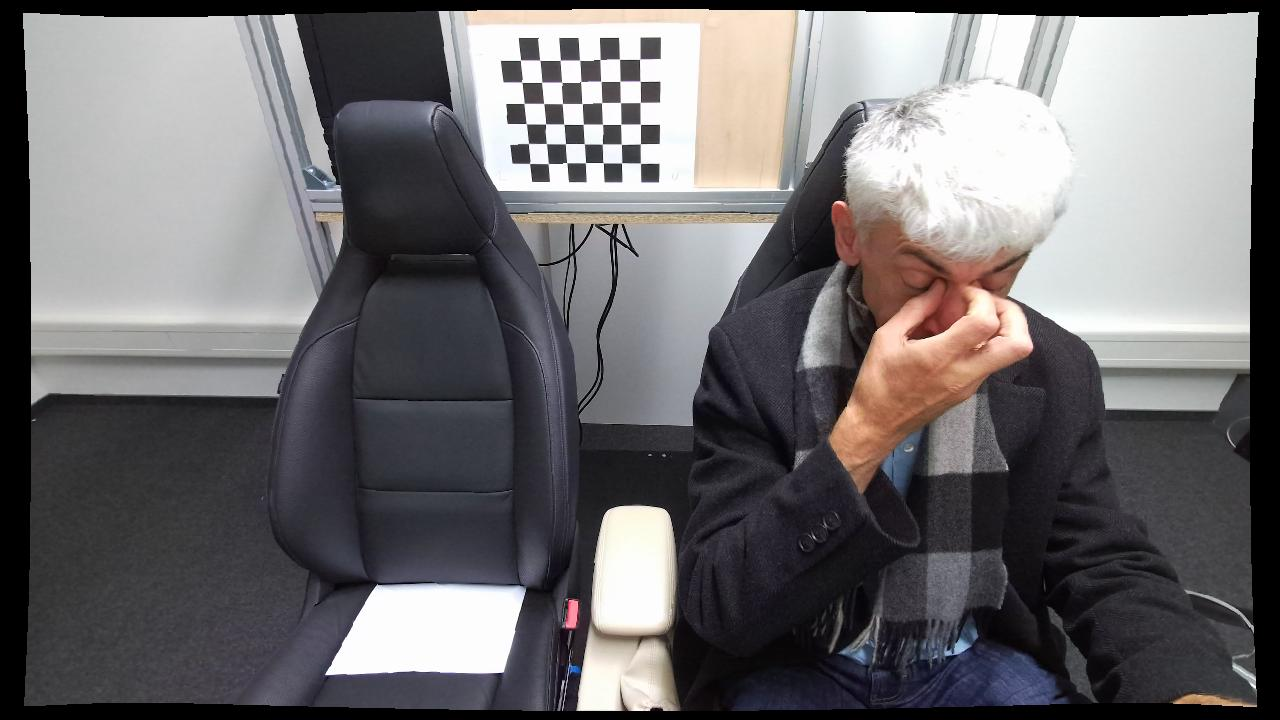Distracted: (679, 73, 1153, 713)
